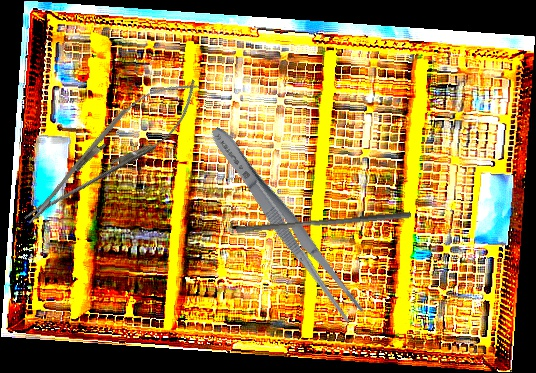Dressing Forceps: (202, 120, 368, 326)
Needle Holder: (9, 62, 213, 241)
Pusher: (235, 204, 412, 240)
